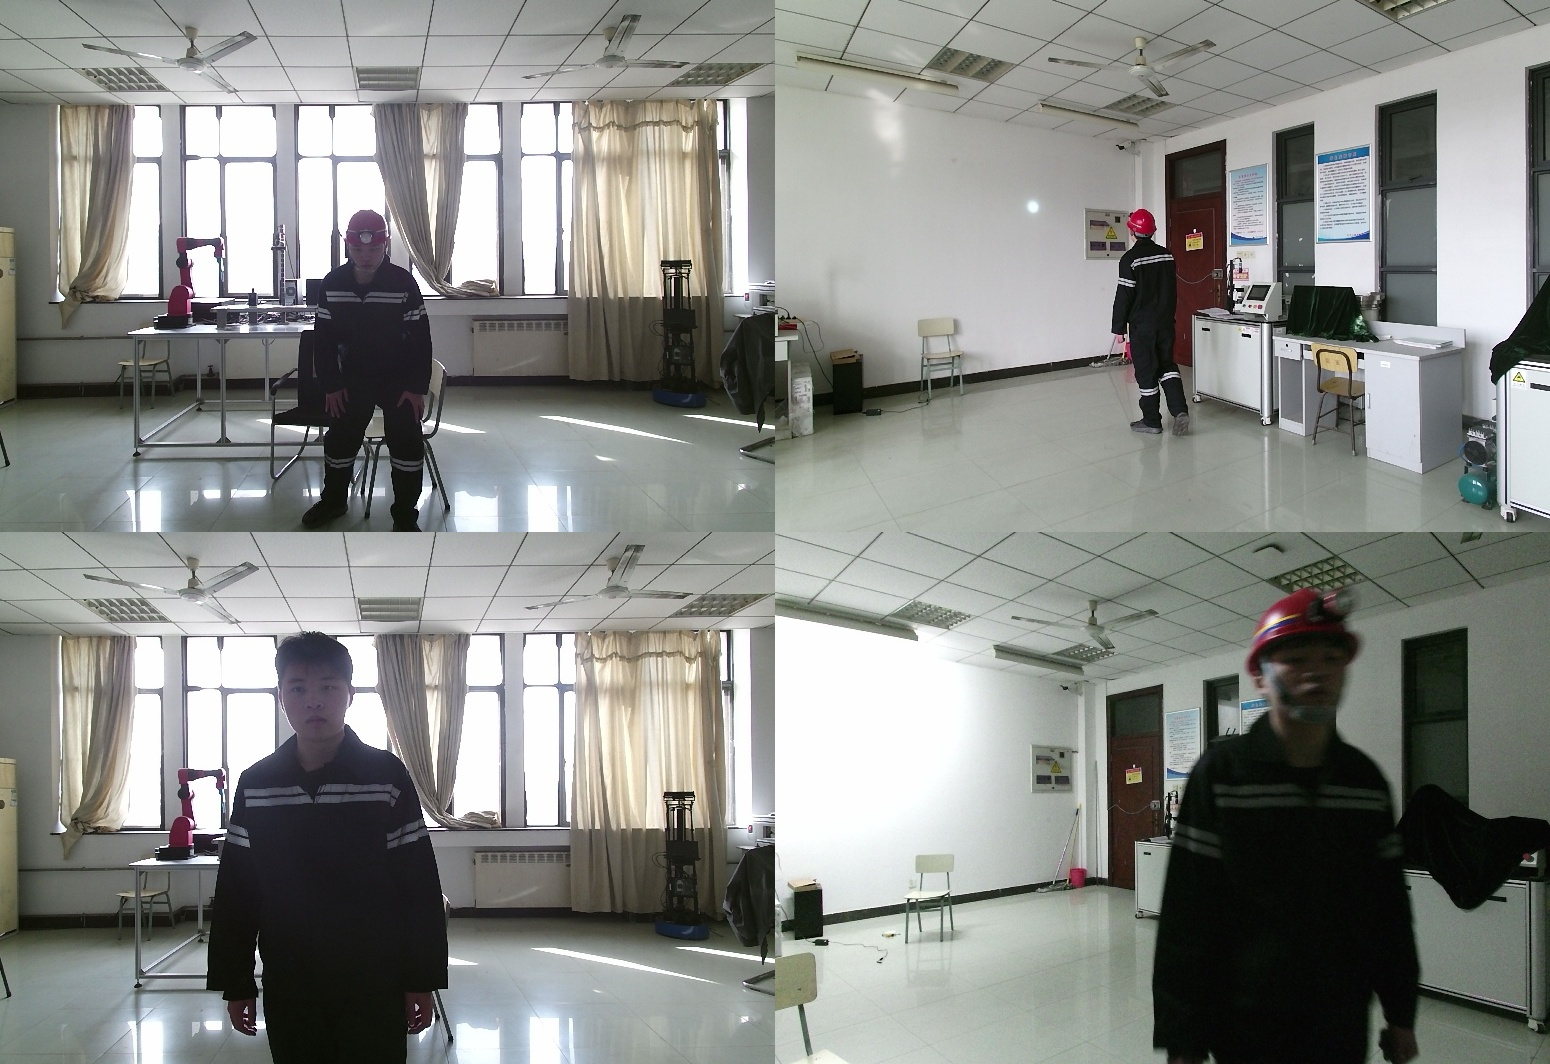person: (1153, 595, 1430, 1064), (220, 632, 459, 1064), (308, 211, 451, 532), (1113, 210, 1197, 444)
